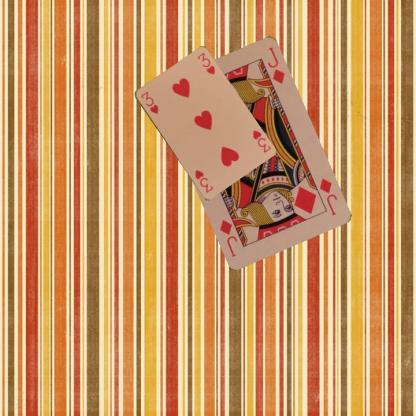3h: (250, 127, 272, 154), (138, 89, 160, 115)
Jd: (316, 175, 338, 217)
